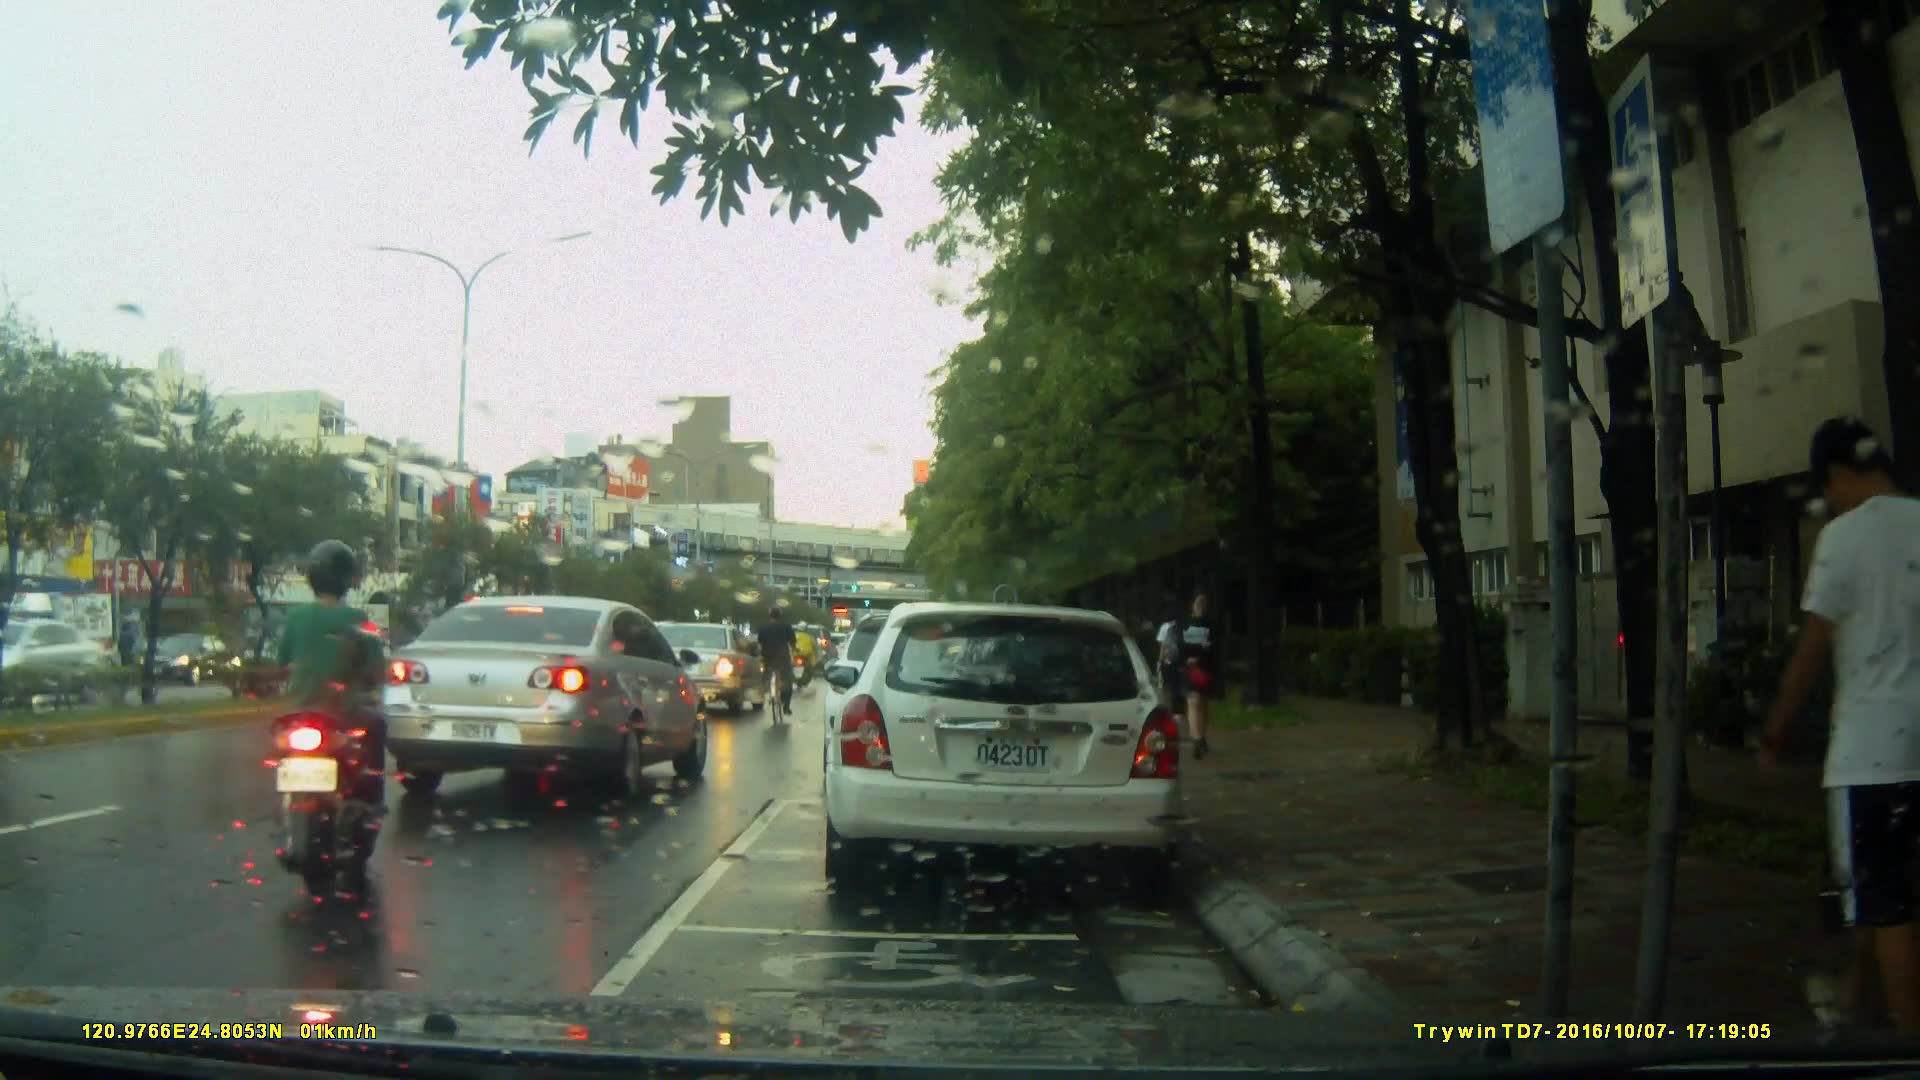pedestrian: (1168, 593, 1226, 754), (1145, 604, 1193, 732)
rider: (258, 537, 376, 927), (755, 607, 797, 739), (792, 615, 822, 693)
vehicle: (820, 602, 1188, 898), (379, 593, 714, 808), (1, 587, 129, 699), (622, 623, 768, 719), (1, 622, 119, 704), (134, 634, 239, 689)
